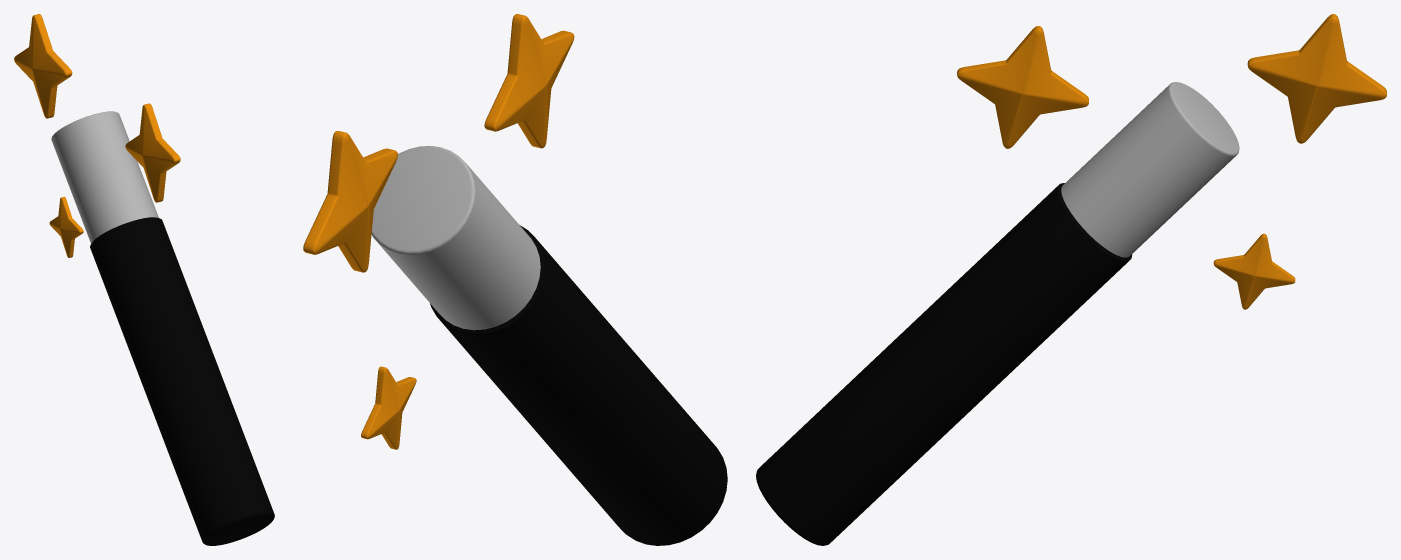
3 renders of one model, left to right at view 1: azimuth 30°, elevation 25°; view 2: azimuth 150°, elevation 25°; view 3: azimuth 270°, elevation 25°, orthographic. The views are drawn at different scales.
Parts seen in each view (by area): view 1: Circle, Star.002, Star.001, Star.003; view 2: Circle, Star.002, Star.001, Star.003; view 3: Circle, Star.002, Star.001, Star.003.
Part boxes in pixels (x1,y1,x2,y2): Circle: (51,111,274,545); Star.002: (14,14,72,118); Star.001: (125,103,180,202); Star.003: (49,196,83,257); Circle: (371,146,727,545); Star.002: (303,131,397,272); Star.001: (484,14,574,148); Star.003: (361,366,416,449); Circle: (756,82,1239,545); Star.002: (1247,14,1386,143); Star.001: (957,26,1088,148); Star.003: (1213,233,1295,309).
Size of the model in its own units: 0.2684 by 1.49 by 1.63.
